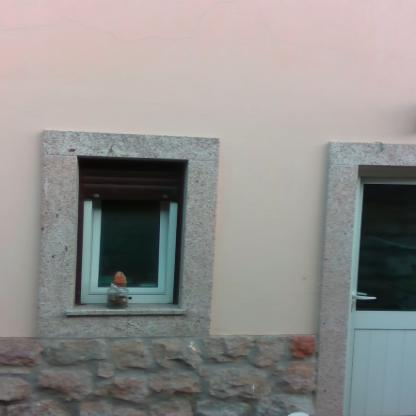door: (347, 174, 415, 415)
lever: (352, 292, 377, 302)
